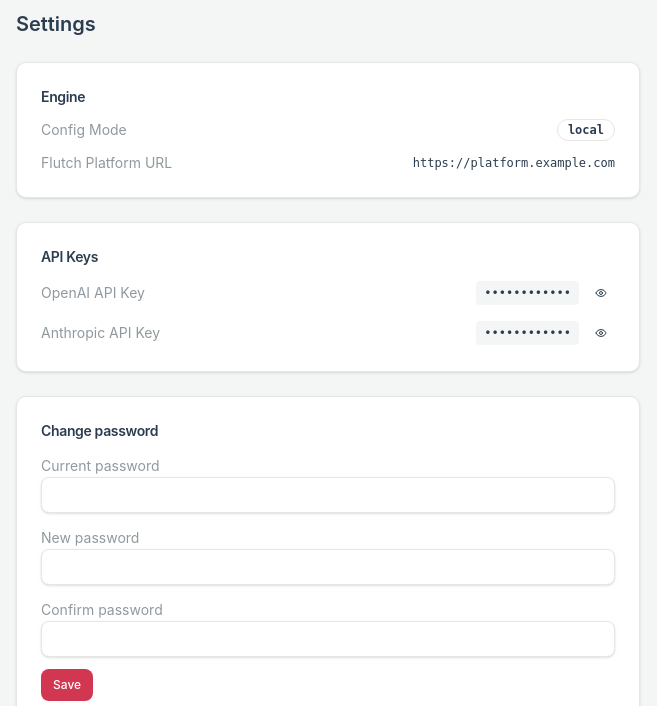
SettingsPage — extra coverage › toggles Anthropic key visibility when eye button clicked
Expected: the text with test id "anthropic-key-value" reads "••••••••••••", [484, 326, 571, 340]
Click the button without text in the row of "Anthropic API Key": (601, 333) [587, 319, 615, 347]
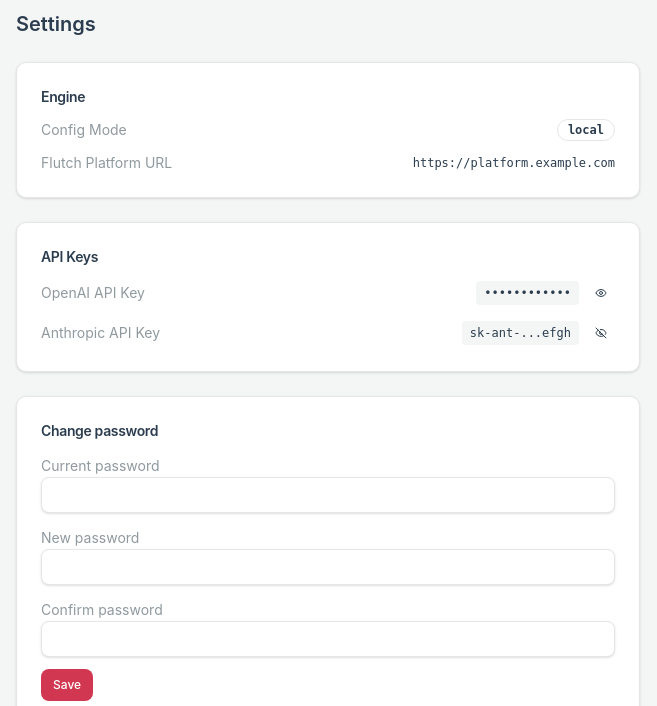
Result: the text with test id "anthropic-key-value" reads "sk-ant-...efgh" at [470, 326, 571, 340]
